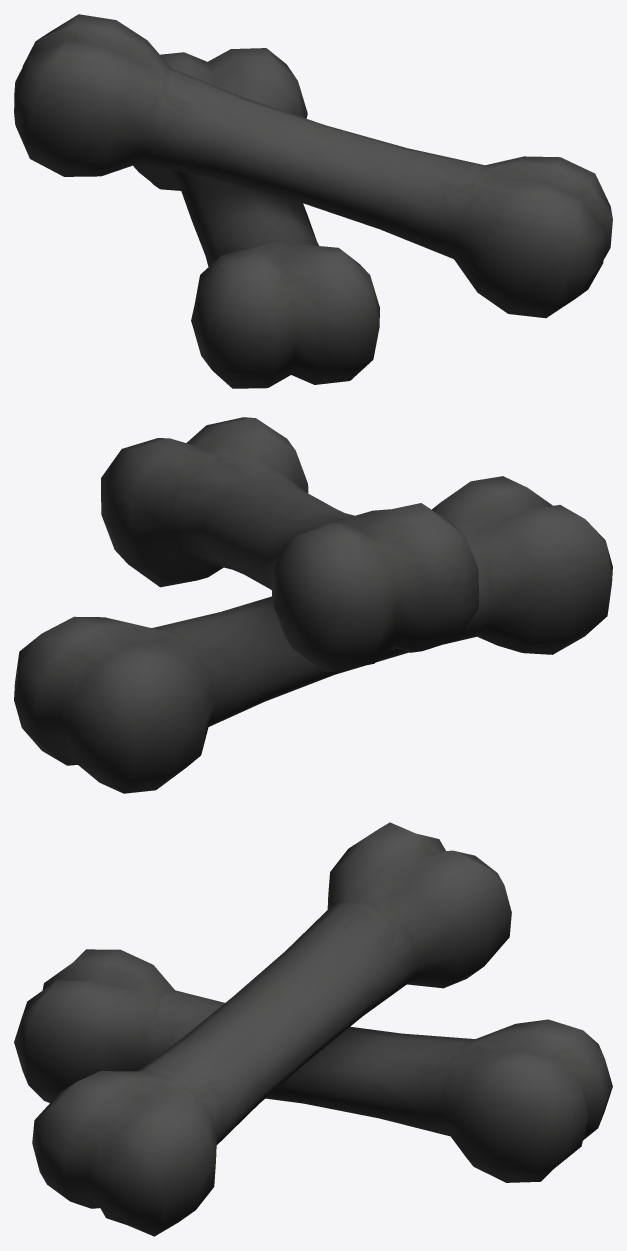
3 renders of one model, top to bottom at view 1: azimuth 30°, elevation 25°; view 2: azimuth 150°, elevation 25°; view 3: azimuth 270°, elevation 25°, orthographic. The views are drawn at different scales.
Visible parts, largest first — view 1: 魂骨; view 2: 魂骨; view 3: 魂骨.
Boxes of the visible parts, left/top/right/bottom form: 魂骨: left=14, top=14, right=612, bottom=388; 魂骨: left=14, top=417, right=612, bottom=793; 魂骨: left=14, top=822, right=612, bottom=1236.
Bounding box in the file's own units: 56.11 × 27.55 × 64.26.
1 material, 1 textured.
